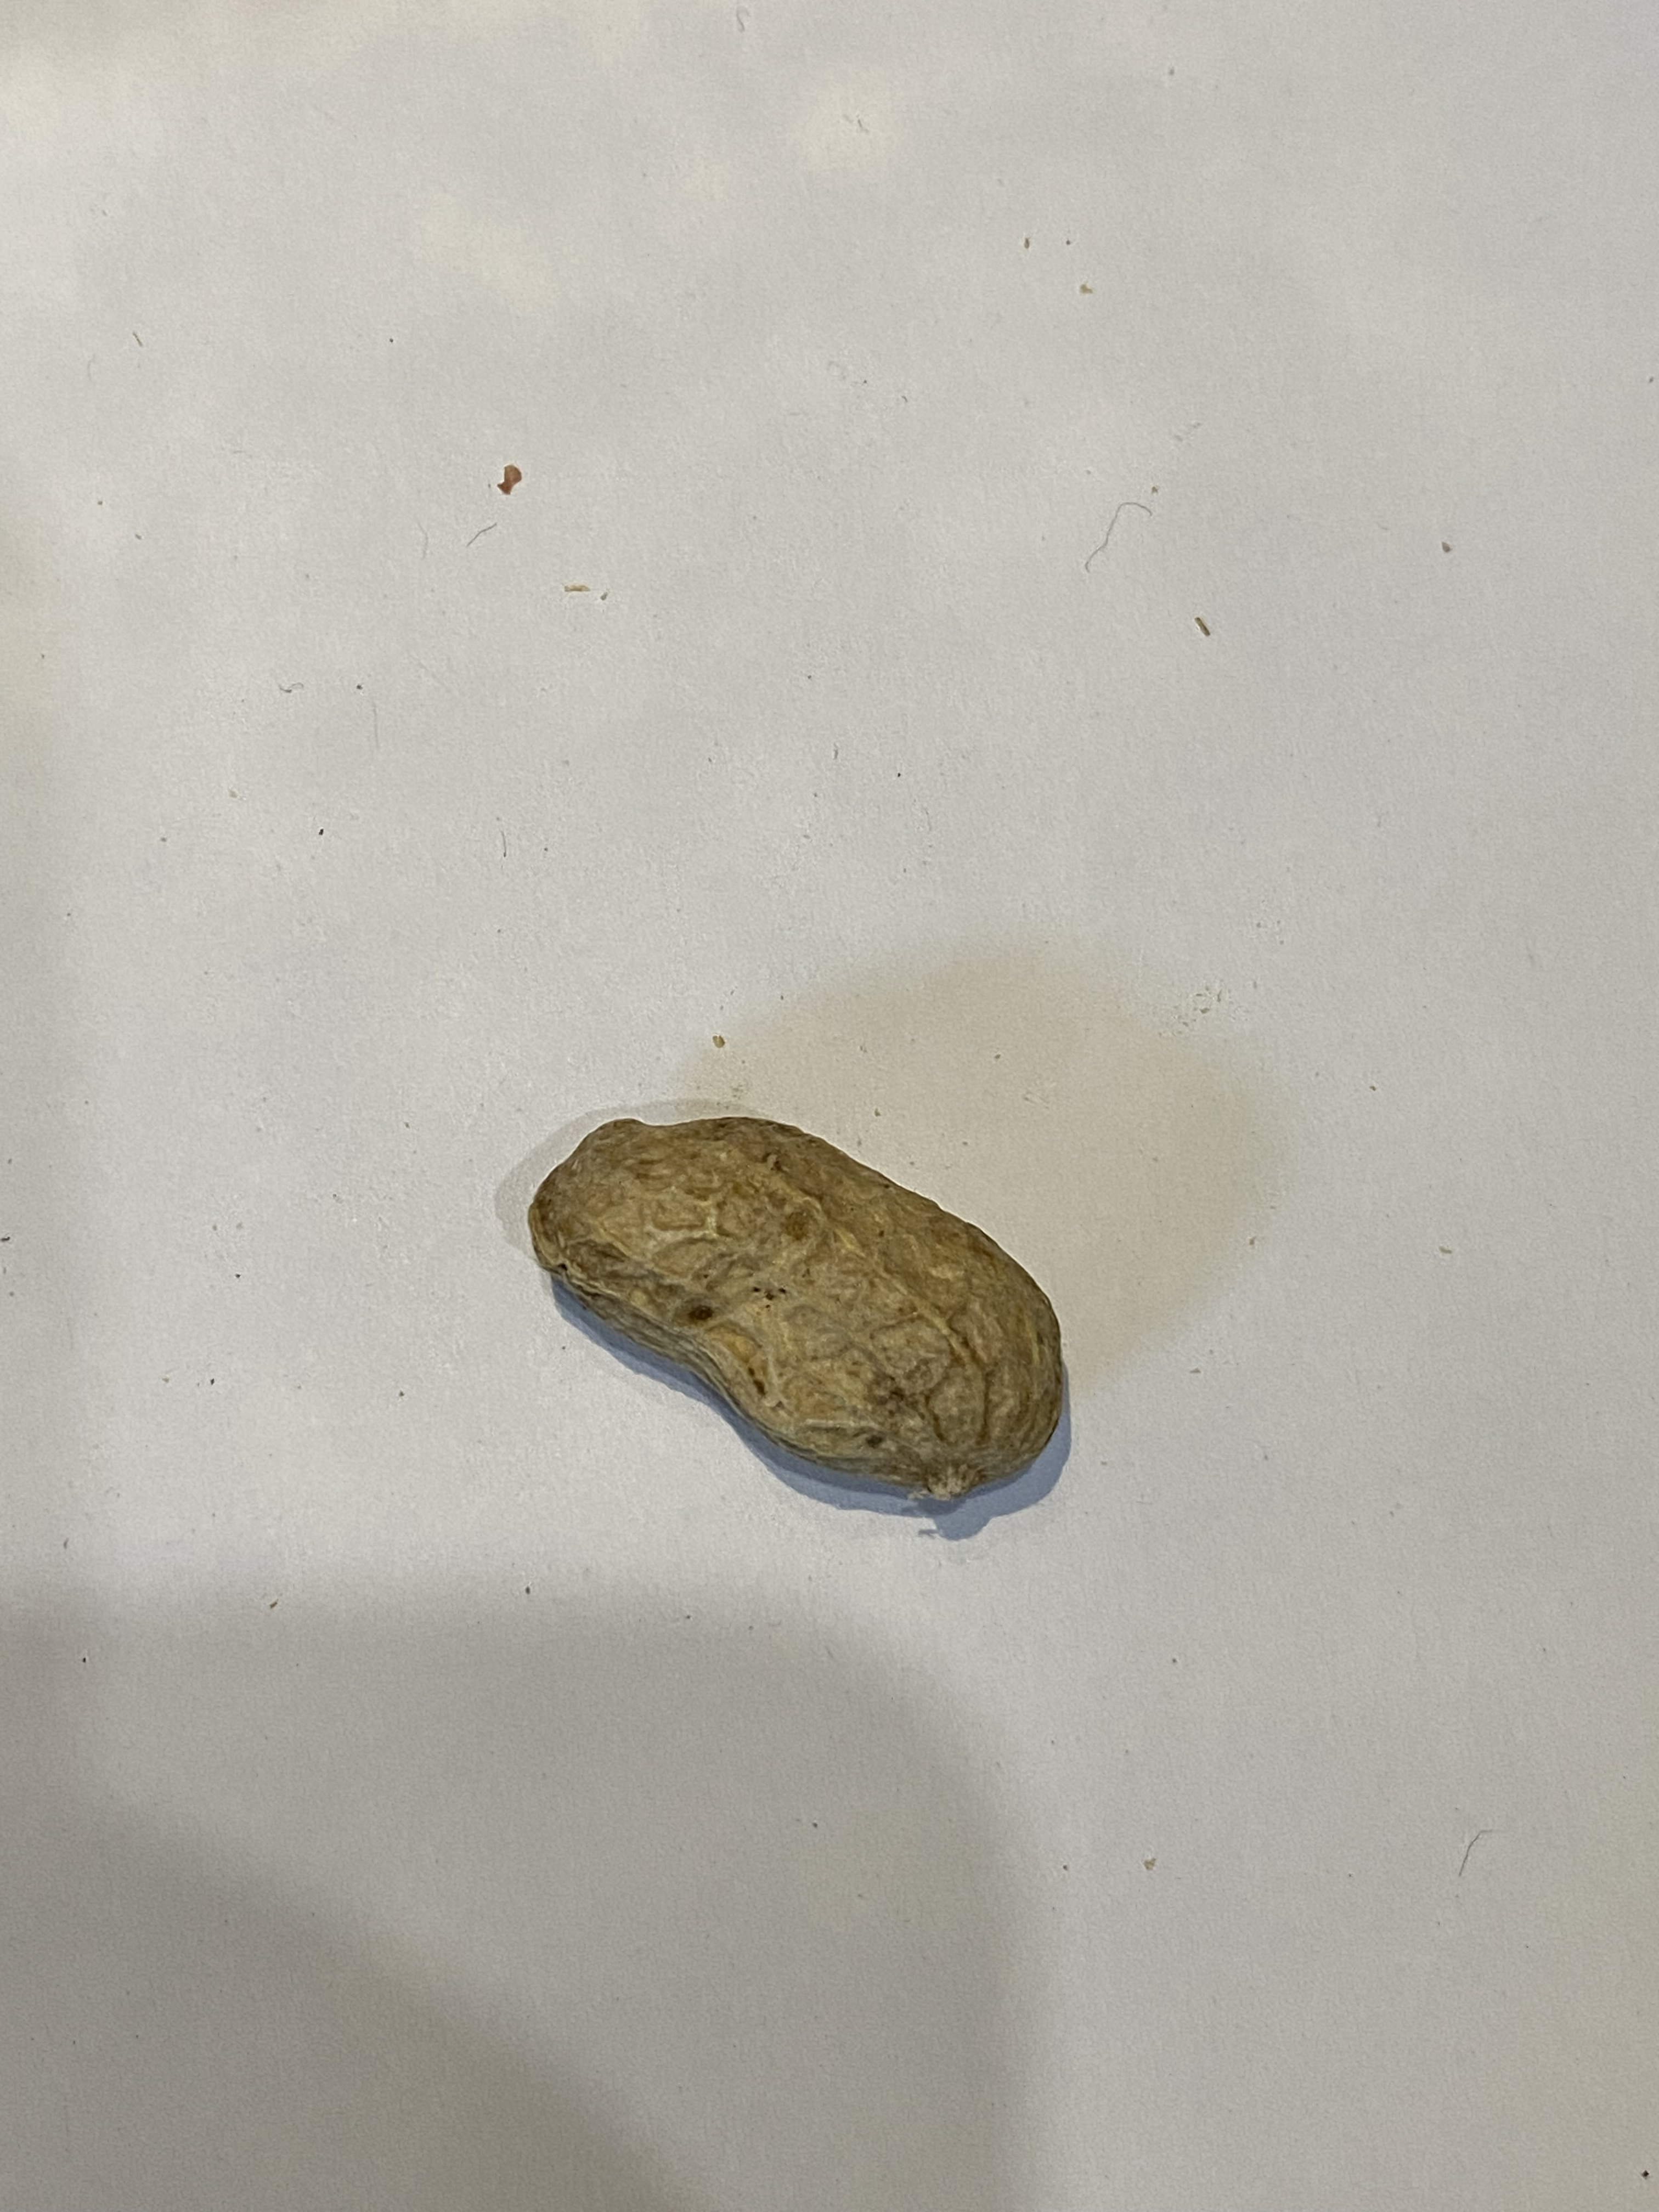kacang2: (474, 1061, 1098, 1521)
